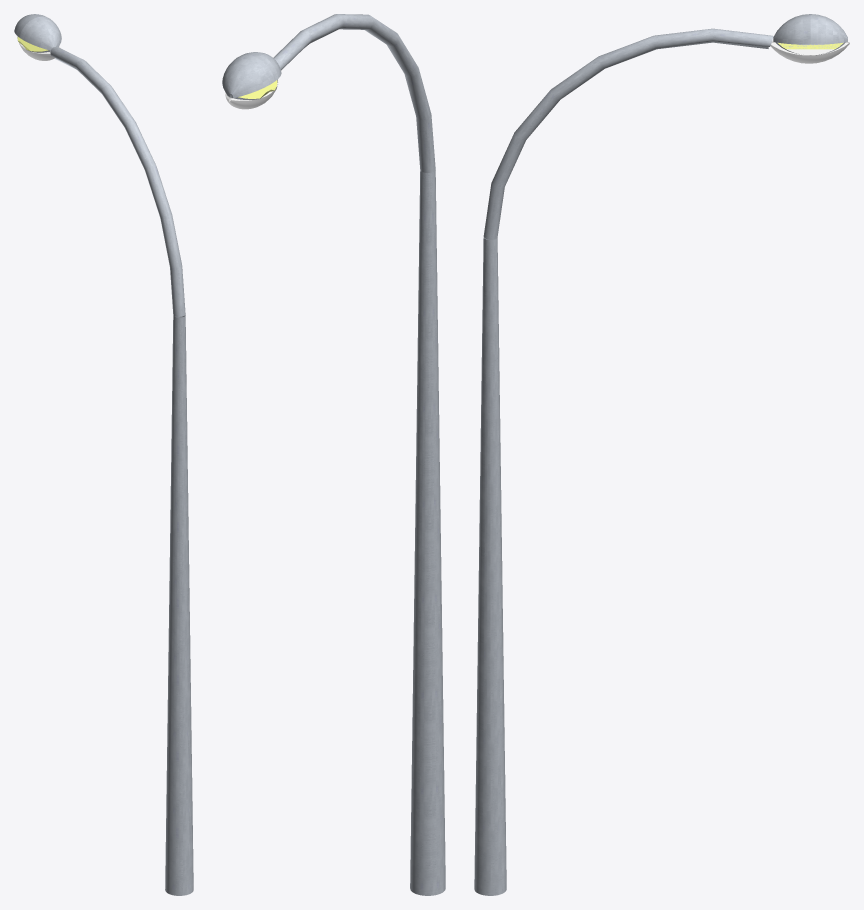
The model's file is streetLamp.dae.
The picture shows the model from 3 angles, left to right: view 1: azimuth 30°, elevation 25°; view 2: azimuth 150°, elevation 25°; view 3: azimuth 270°, elevation 25°; orthographic projection. The views are drawn at different scales.
Visible parts, largest first — view 1: Model; view 2: Model; view 3: Model.
Boxes of the visible parts, x1,y1,x2,y2 form: Model: (14,14,193,895); Model: (222,14,445,895); Model: (474,14,849,895).
Bounding box in the file's own units: 13.8 × 107 × 273.
